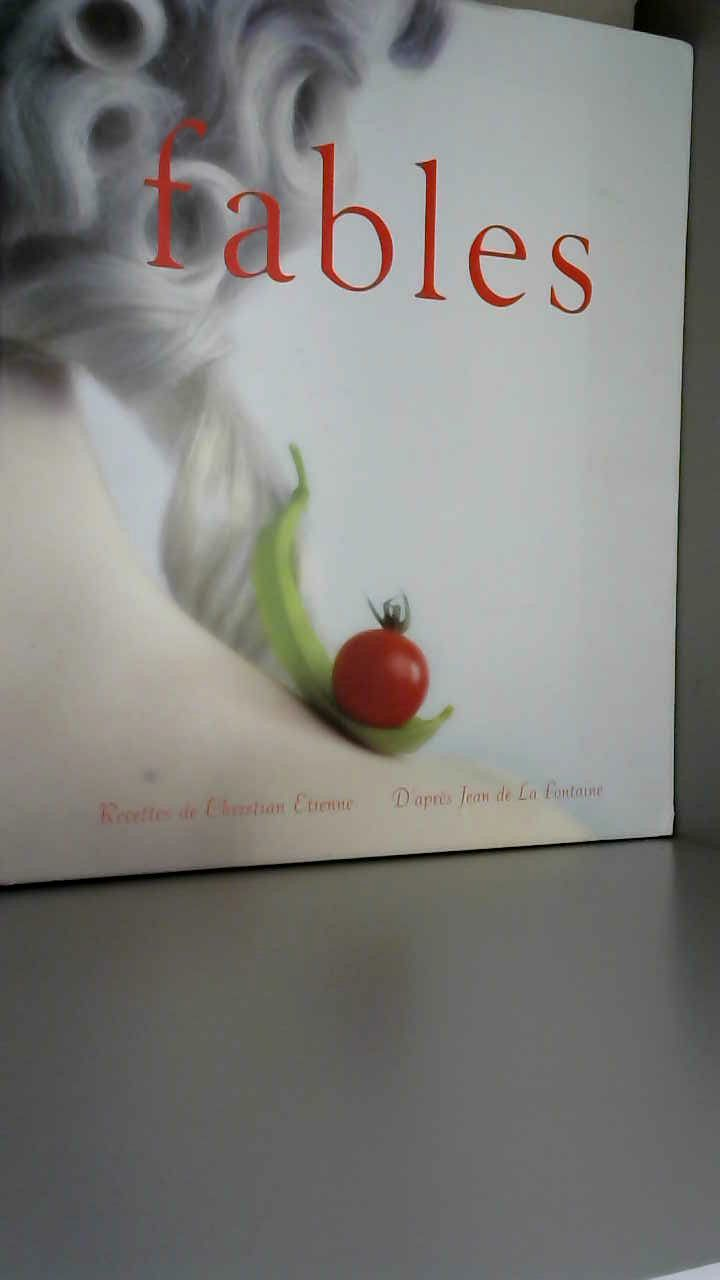book: (0, 0, 720, 918)
